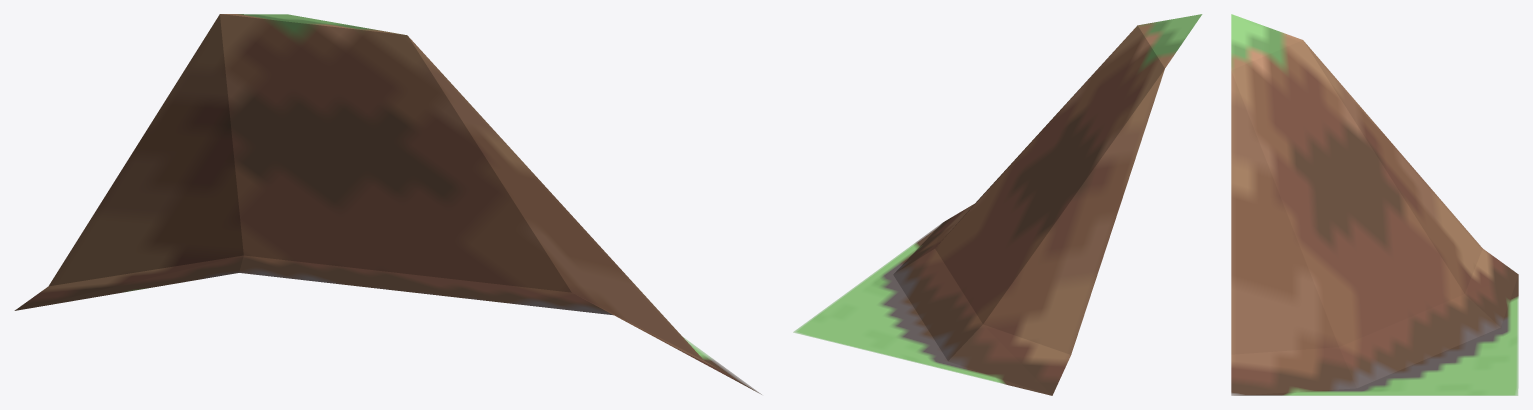
Rendered from cliffCornerOut.obj.
The picture shows the model from 3 angles, left to right: view 1: azimuth 30°, elevation 25°; view 2: azimuth 150°, elevation 25°; view 3: azimuth 270°, elevation 25°; orthographic projection. The views are drawn at different scales.
Parts seen in each view (by area): view 1: cliffCornerOut_Grid.008; view 2: cliffCornerOut_Grid.008; view 3: cliffCornerOut_Grid.008.
Boxes of the visible parts, x1=… form: cliffCornerOut_Grid.008: x1=14, y1=14, x2=761, y2=394; cliffCornerOut_Grid.008: x1=793, y1=14, x2=1202, y2=395; cliffCornerOut_Grid.008: x1=1231, y1=14, x2=1518, y2=395.
Size of the model in its own units: 2 by 2 by 2.
